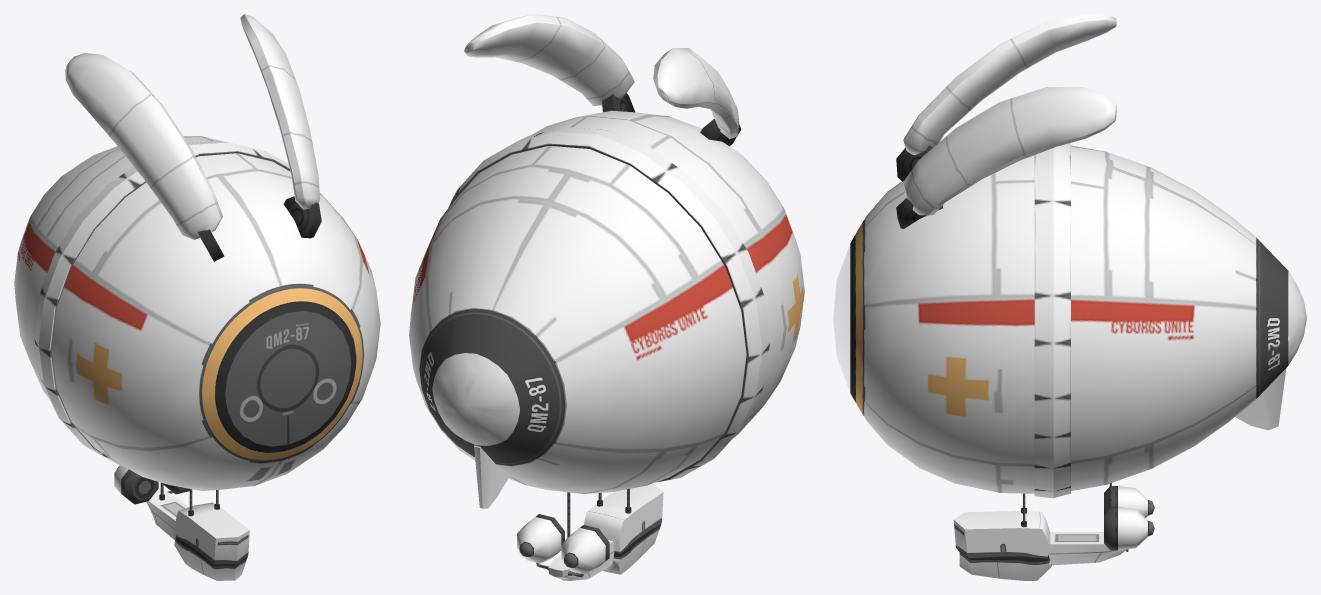
File: airship.glb
3 renders of one model, left to right at view 1: azimuth 30°, elevation 25°; view 2: azimuth 150°, elevation 25°; view 3: azimuth 270°, elevation 25°, orthographic. The views are drawn at different scales.
Parts seen in each view (by area): view 1: airship_lp_body, airship_lp_glass; view 2: airship_lp_body; view 3: airship_lp_body, airship_lp_glass.
Part boxes in pixels (x1,y1,x2,y2): airship_lp_body: (14,14,380,580); airship_lp_glass: (225,311,350,446); airship_lp_body: (409,14,804,580); airship_lp_body: (850,14,1306,580); airship_lp_glass: (833,246,849,390).
Bounding box in the file's own units: 29.24 × 46.86 × 38.39.
Materials: 2 (1 with a texture image).
